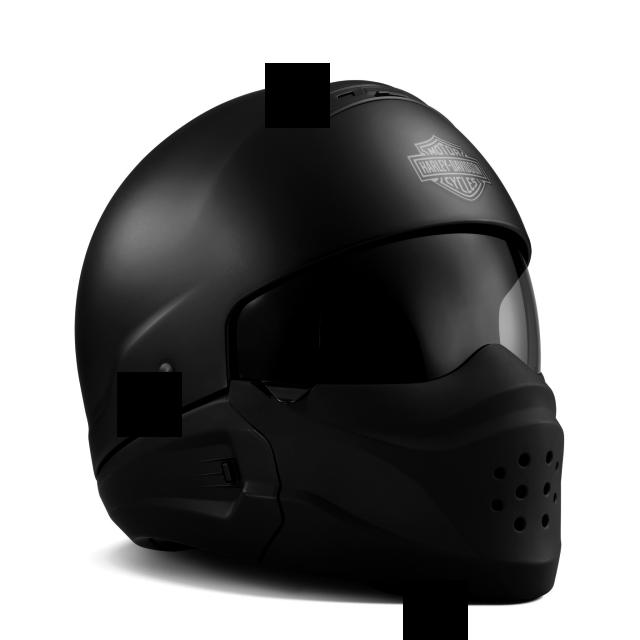Helmet: (76, 80, 562, 601)
